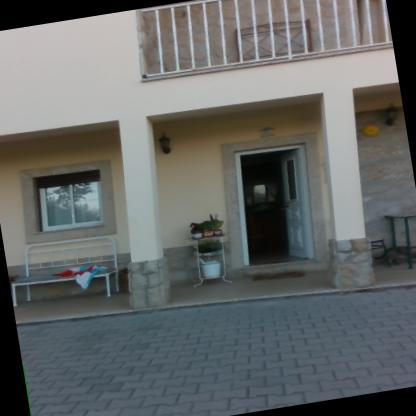open: (218, 134, 336, 295)
